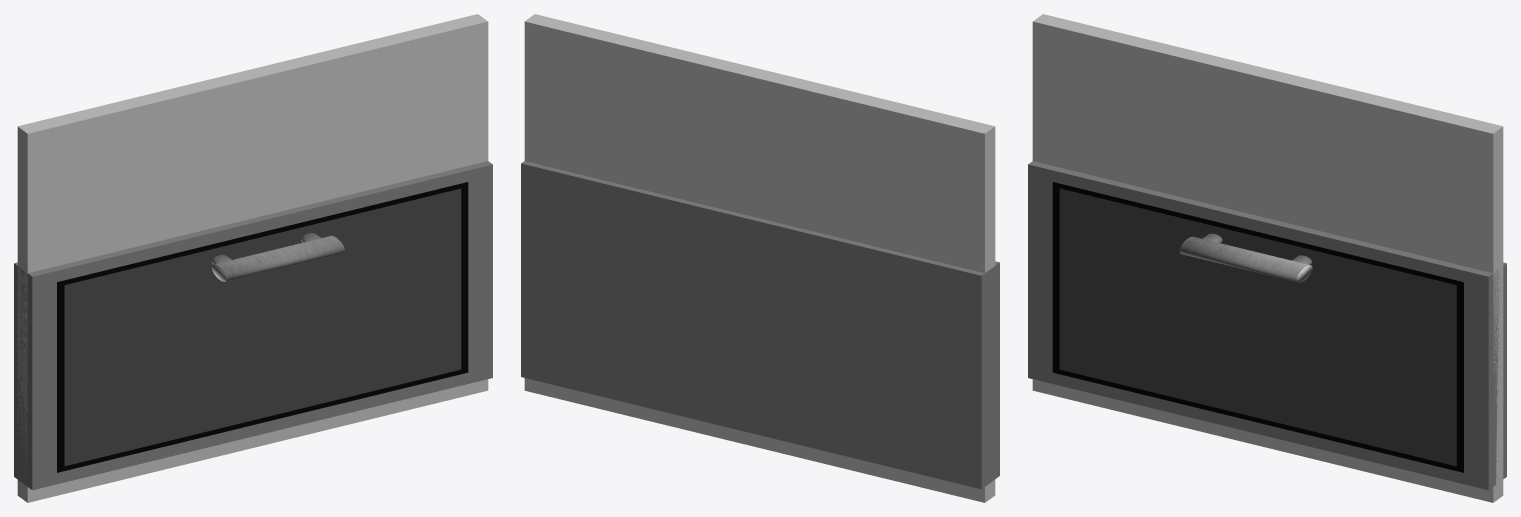
The model's file is Cooker Unit (Oven Door).fbx.
The picture shows the model from 3 angles, left to right: view 1: azimuth 30°, elevation 25°; view 2: azimuth 150°, elevation 25°; view 3: azimuth 330°, elevation 25°; orthographic projection.
Parts seen in each view (by area): view 1: Door 1.003, Door 1.007, Door 1.005, Door 1.006, Cylinder.003; view 2: Door 1.005, Door 1.003; view 3: Door 1.003, Door 1.007, Door 1.005, Door 1.006, Cylinder.003.
Part boxes in pixels (<box>): Door 1.003: <box>17,14,488,502</box>; Door 1.007: <box>64,188,461,466</box>; Door 1.005: <box>14,161,492,490</box>; Door 1.006: <box>57,182,468,472</box>; Cylinder.003: <box>211,233,344,281</box>; Door 1.005: <box>521,161,999,489</box>; Door 1.003: <box>524,14,995,502</box>; Door 1.003: <box>1032,14,1503,502</box>; Door 1.007: <box>1059,188,1456,466</box>; Door 1.005: <box>1028,161,1506,490</box>; Door 1.006: <box>1052,182,1463,472</box>; Cylinder.003: <box>1179,233,1312,282</box>.
Size of the model in its own units: 0.6961 by 0.5333 by 0.1053.
Materials: 5 (5 with a texture image).
